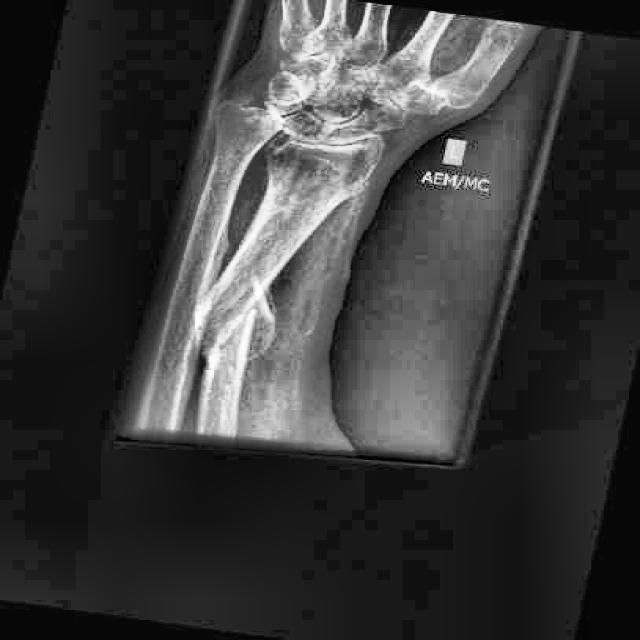forearm fracture: (171, 250, 304, 375)
